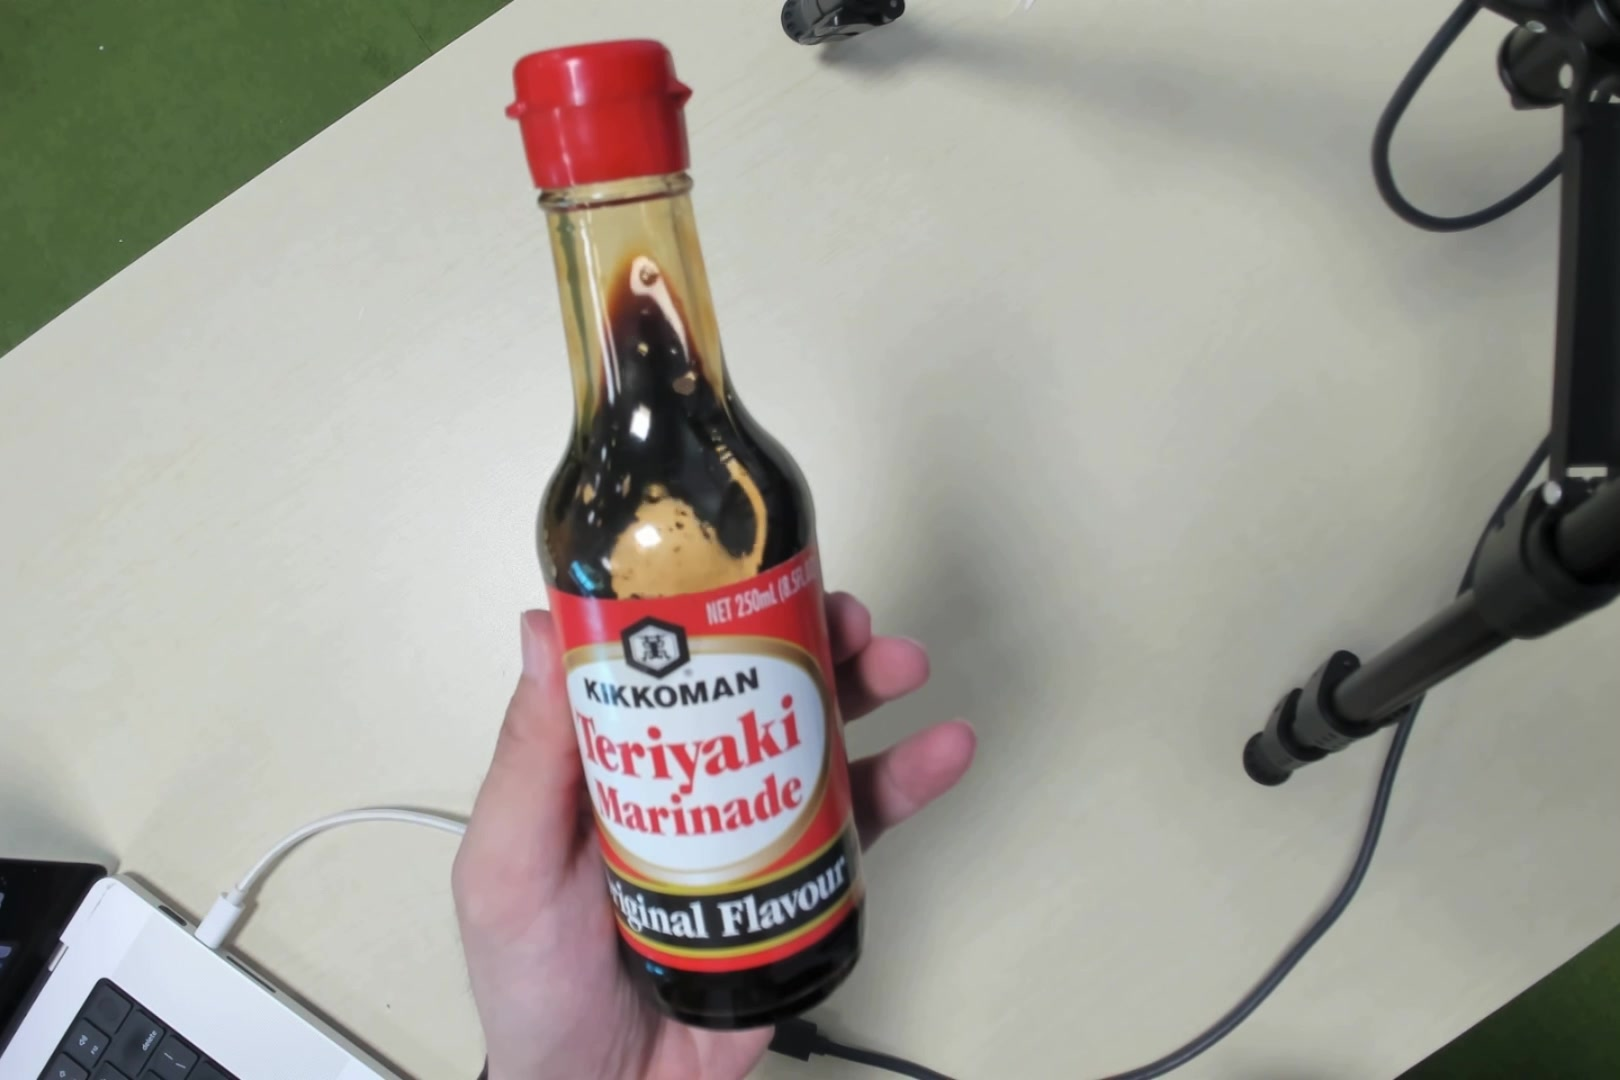OtherSauceDressingSoupbasePaste_200-299g_NonHalal_NonHealthy: (524, 63, 856, 962)
